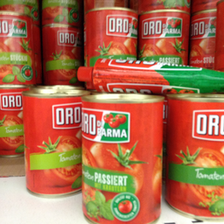tomato_sauce: (80, 93, 165, 224), (165, 93, 224, 220), (20, 82, 82, 198), (75, 56, 224, 94), (81, 7, 138, 57), (1, 11, 37, 86), (138, 9, 188, 59), (40, 24, 79, 81)
